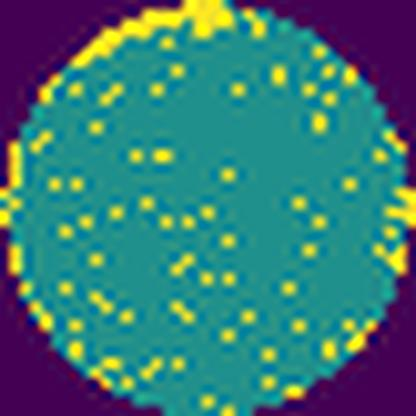Edge-Loc: (67, 0, 238, 71), (383, 182, 415, 230), (376, 242, 408, 276)
